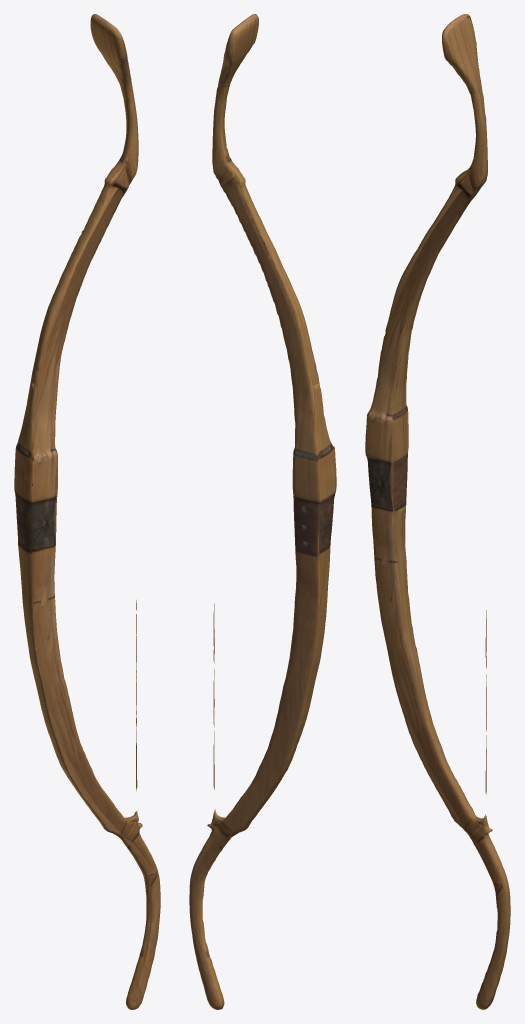
The model's file is simpleWoodenBow.fbx.
3 renders of one model, left to right at view 1: azimuth 30°, elevation 25°; view 2: azimuth 150°, elevation 25°; view 3: azimuth 330°, elevation 25°, orthographic.
Parts seen in each view (by area): view 1: Mesh_0.006; view 2: Mesh_0.006; view 3: Mesh_0.006.
Boxes of the visible parts, x1,y1,x2,y2 form: Mesh_0.006: [14, 14, 160, 1009]; Mesh_0.006: [189, 14, 336, 1009]; Mesh_0.006: [365, 14, 510, 1009].
Size of the model in its own units: 29.04 by 198 by 10.24.
1 material, 1 textured.
